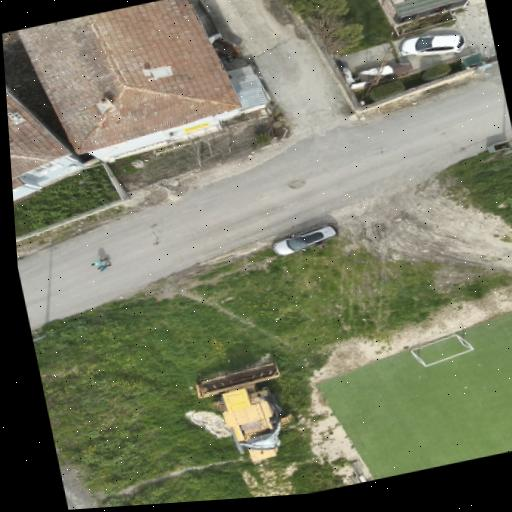car: (273, 224, 338, 255), (399, 35, 464, 56)
harvester: (196, 362, 290, 462)
person: (91, 258, 107, 266), (98, 265, 110, 270)
